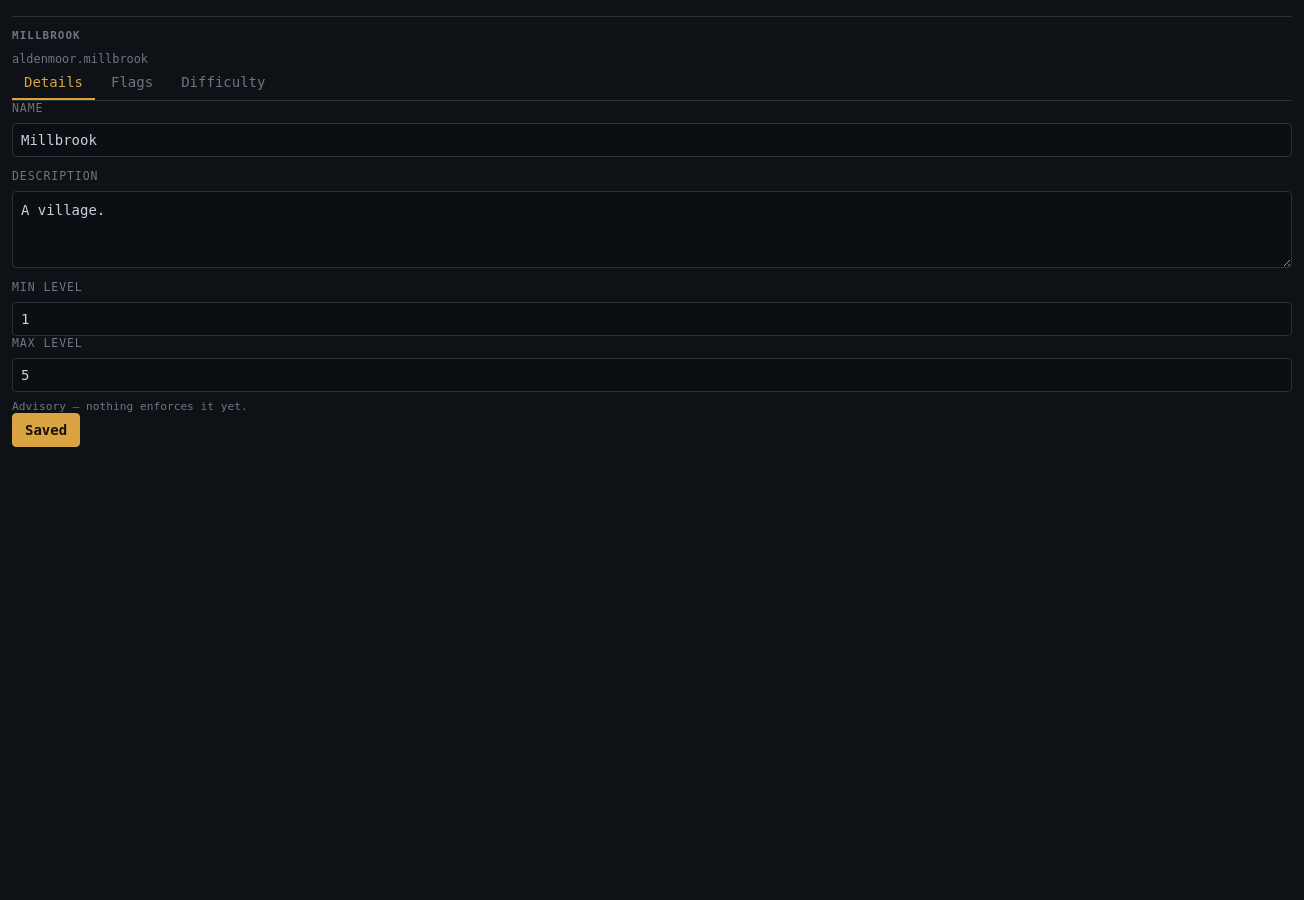
it: says so when a zone has nothing to respawn
Press the mouse on the tab "Difficulty" at (223, 83), box [169,66,278,100]
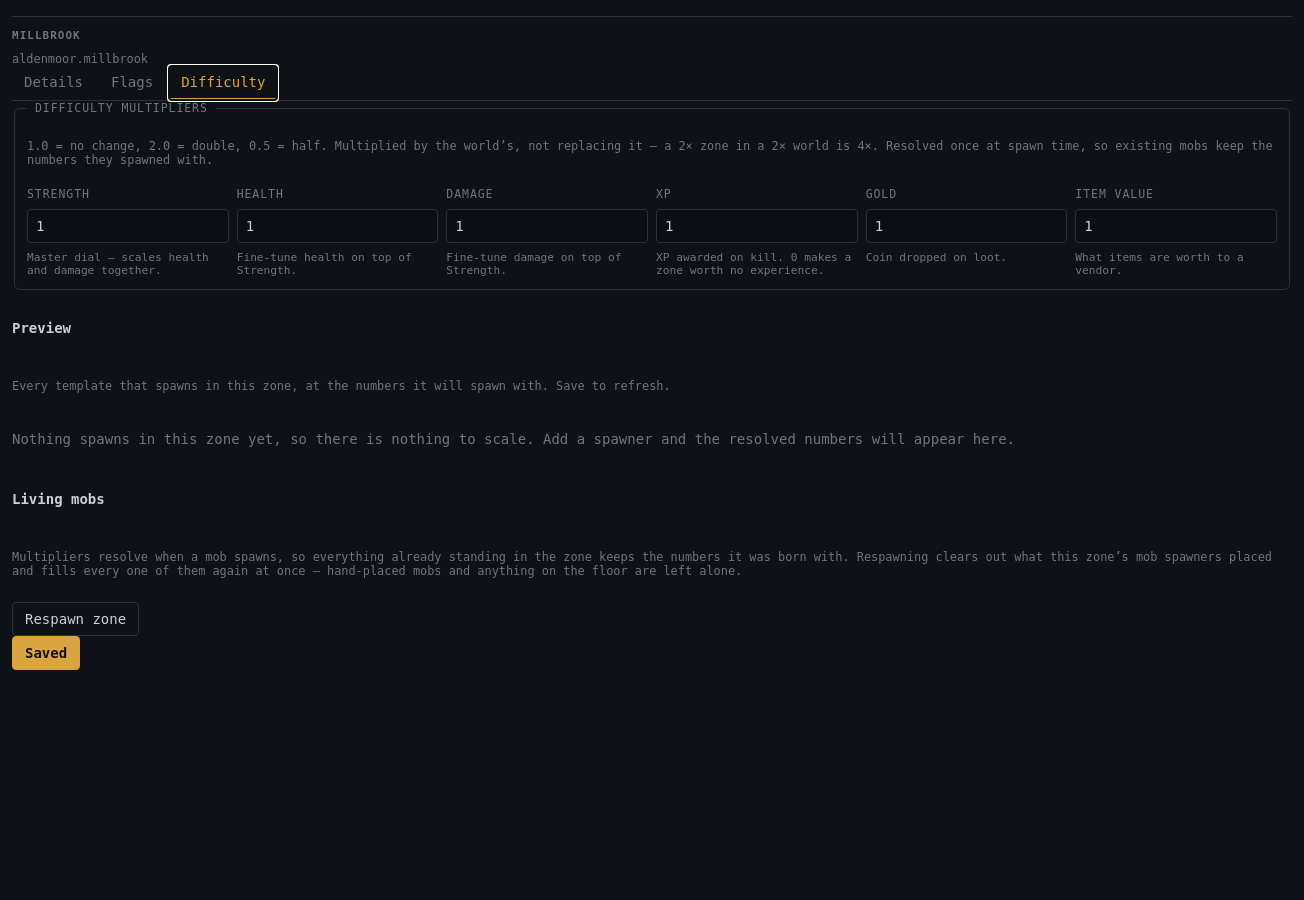
Click the button "Respawn zone".
click(76, 619)  # box [12,602,139,636]
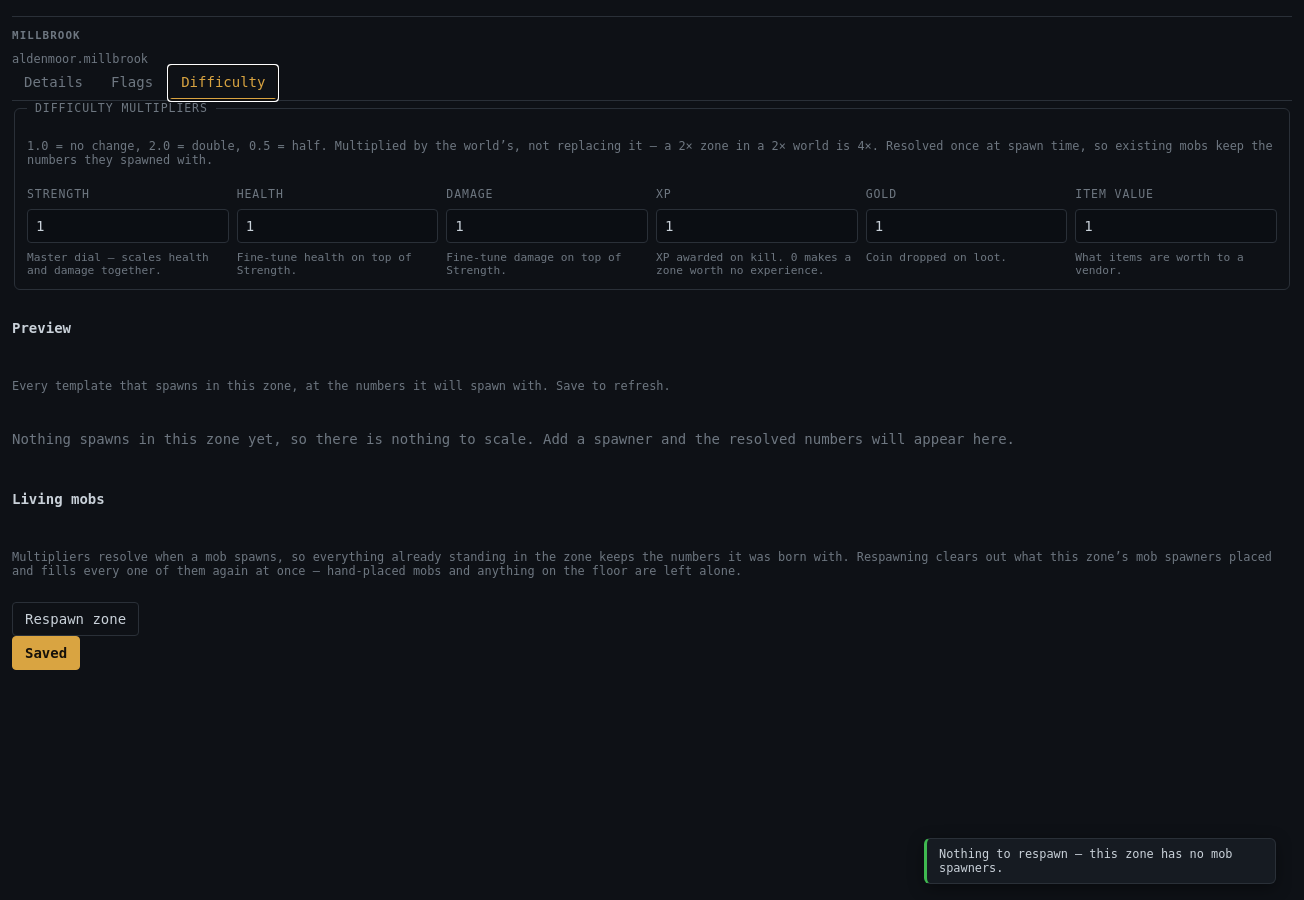
Check: the text "Nothing to respawn — this zone has no mob spawners." is shown, box [939,847,1263,875]
